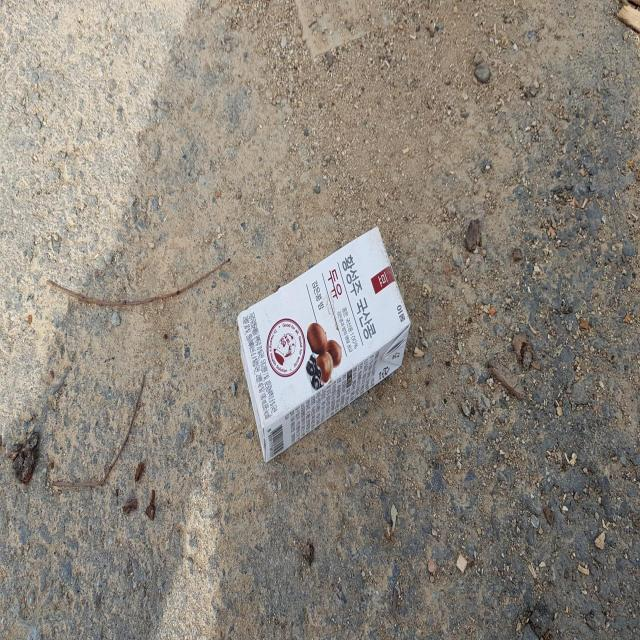paperpack: (238, 226, 410, 461)
